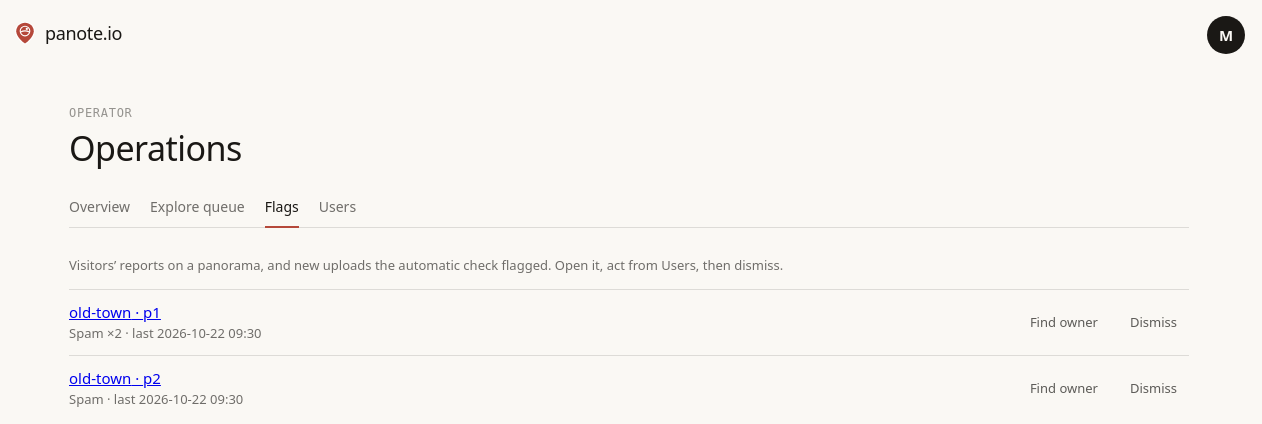
Scenario: /app/ops/flags › dismisses every flag on a panorama at once
expect the link "old-town · p1" is shown: met, box [69, 302, 161, 322]
What coordinates should you click on to do the following:
click the button "Dismiss" in the row of "p1"
I would click on:
 (1154, 323)
Its box is [1118, 308, 1189, 337].
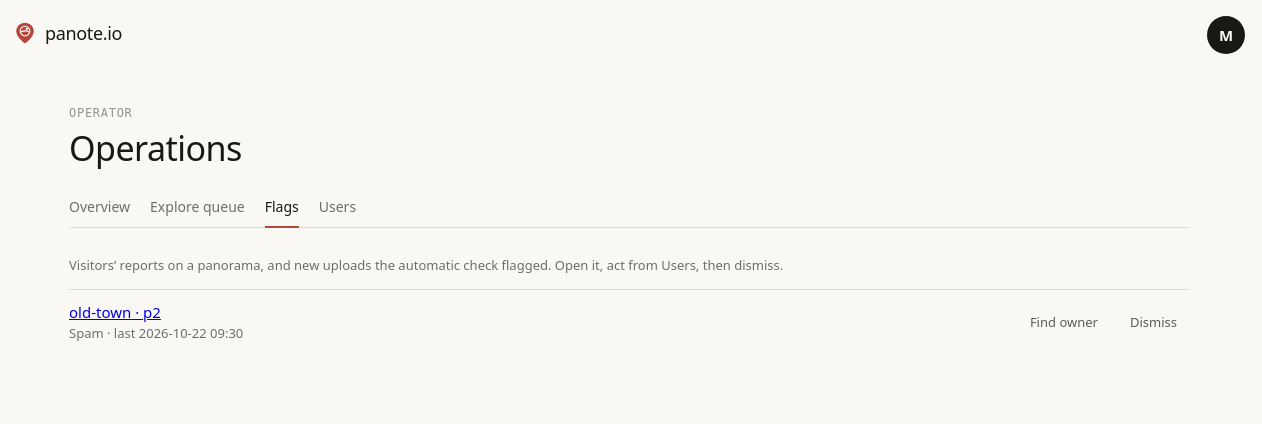
expect the link "old-town · p1" is gone: met
